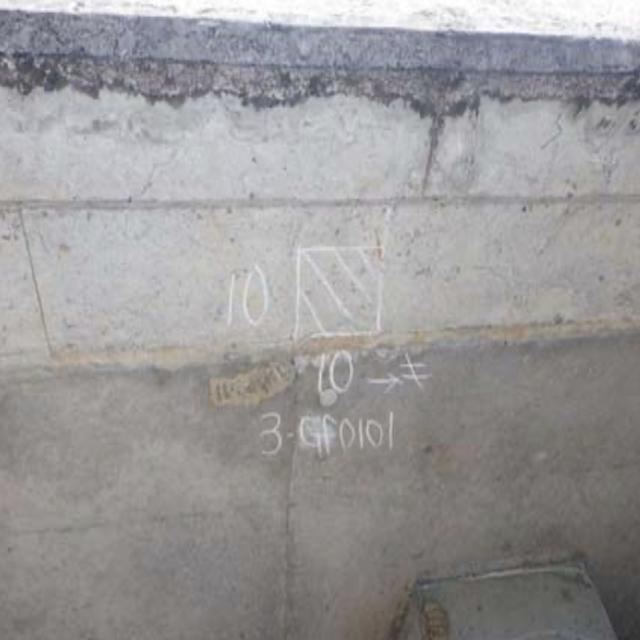spalling: (199, 346, 317, 433)
